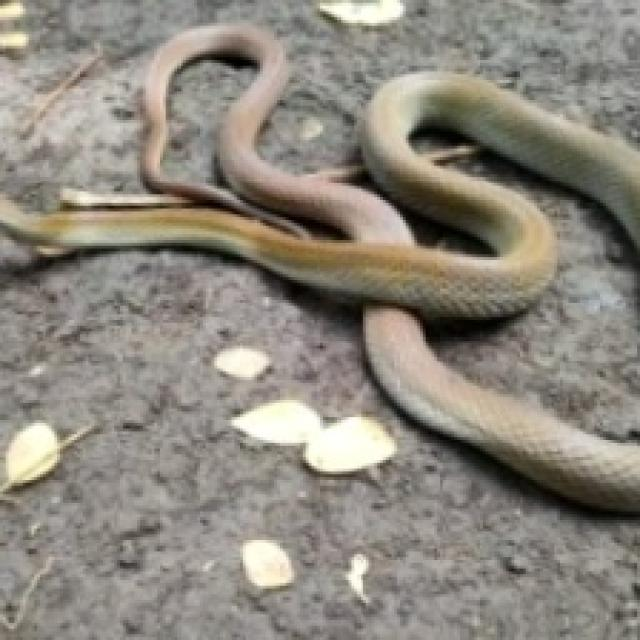reddish rat snake: (0, 23, 637, 511)
